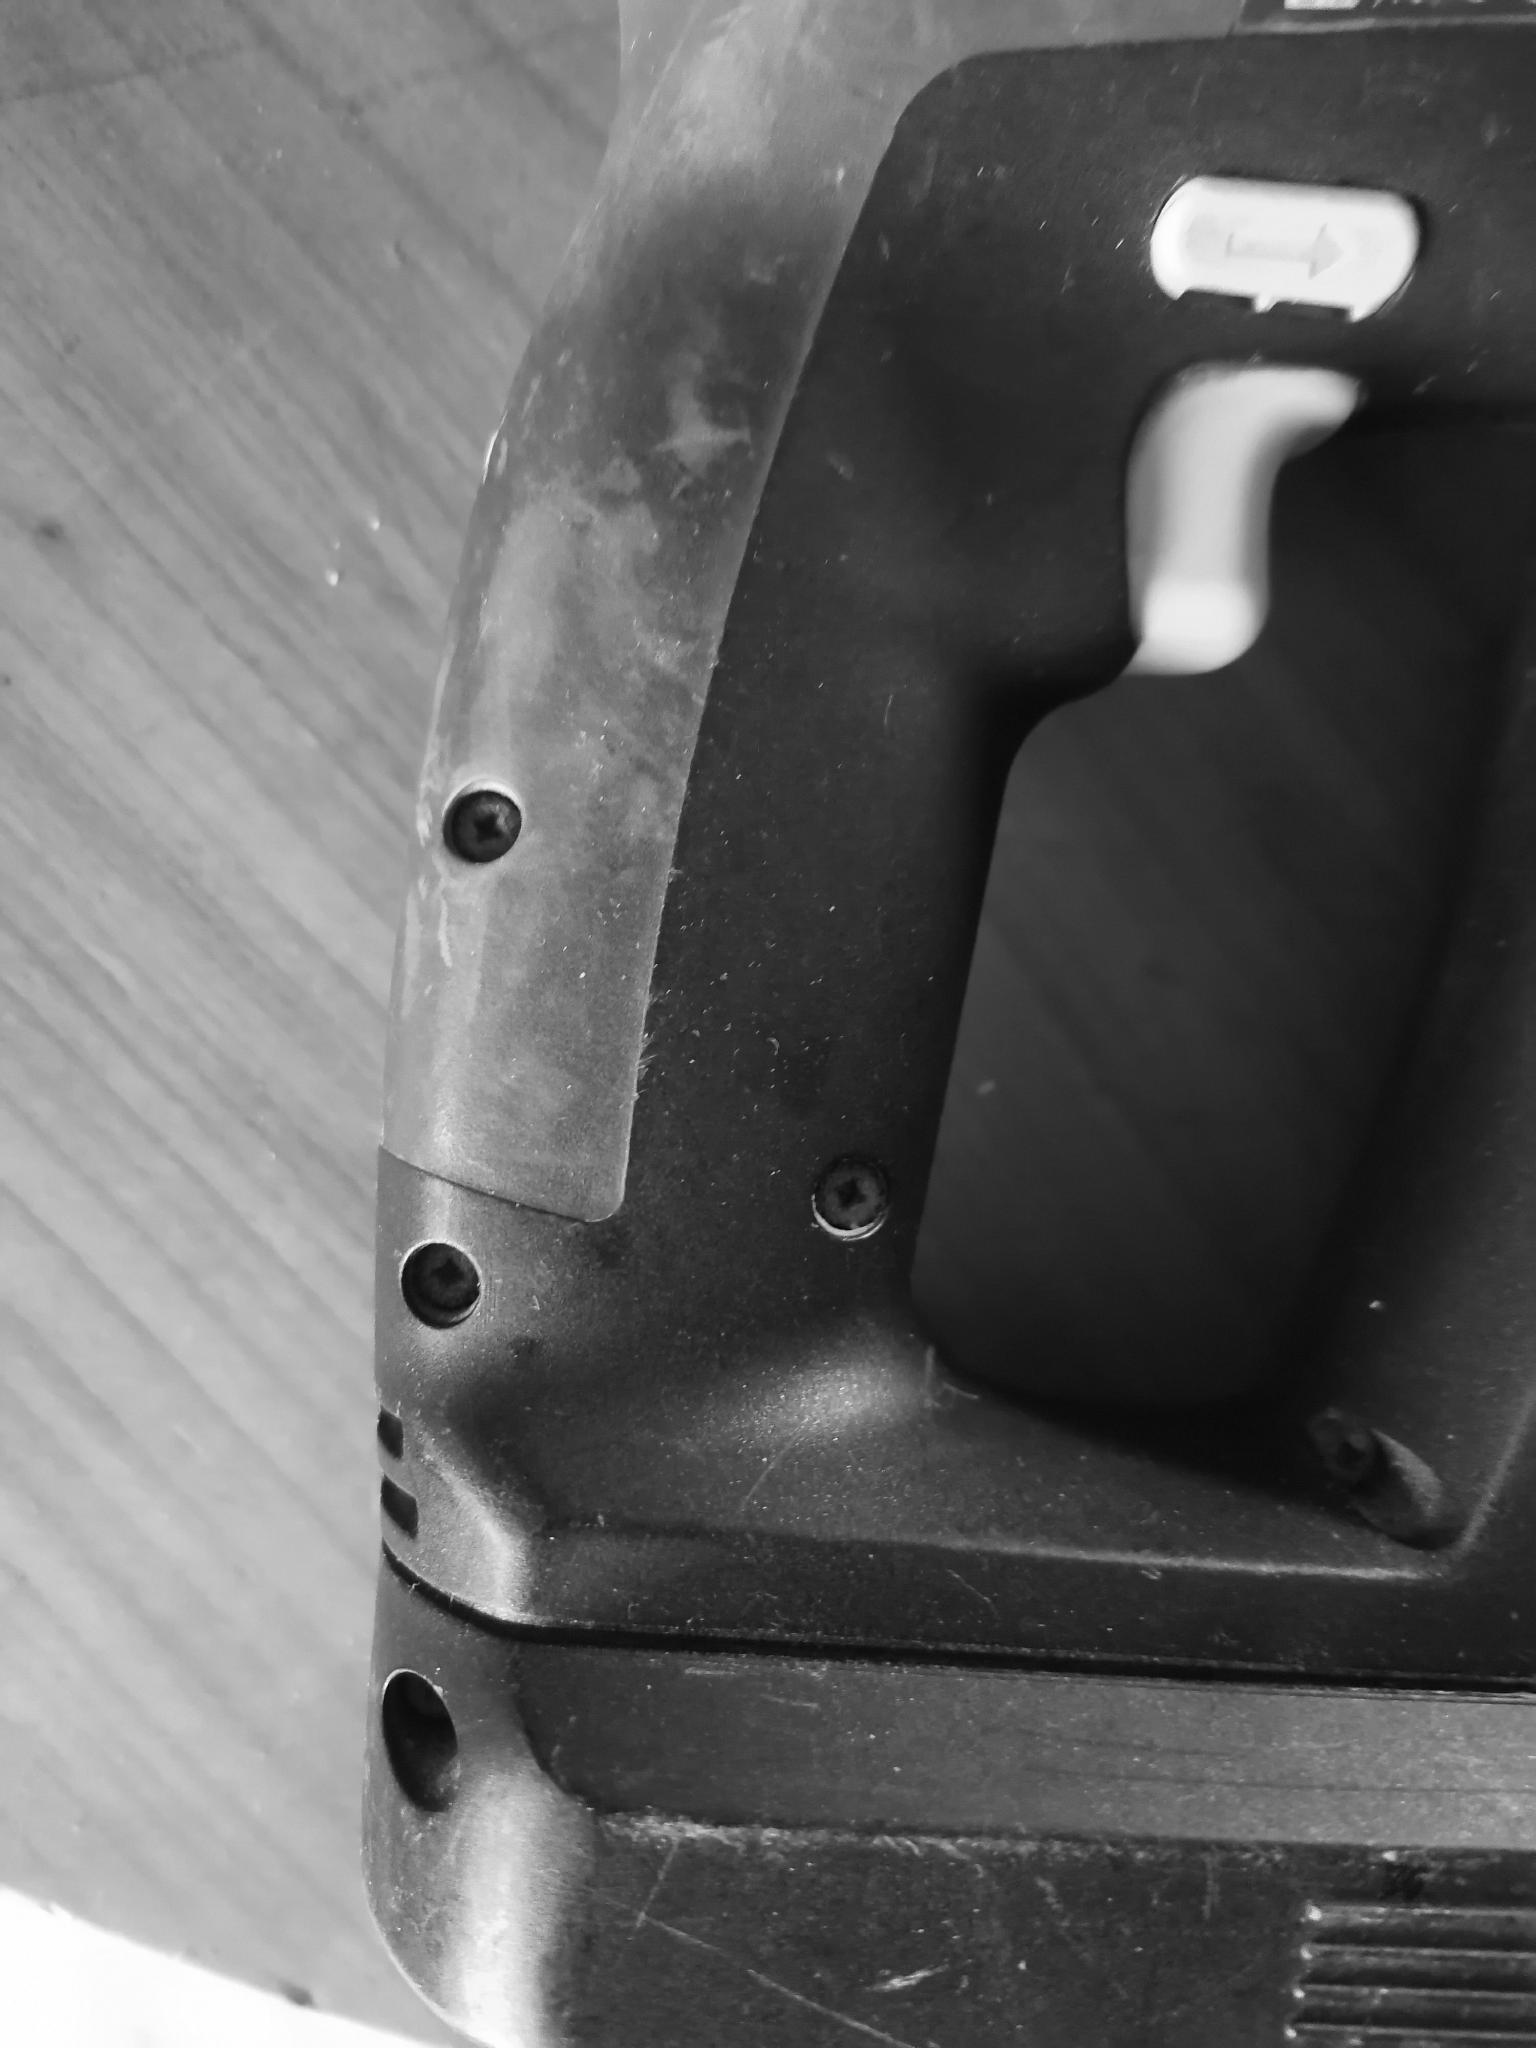philips-PZ: (394, 1235, 486, 1330), (437, 780, 528, 871), (810, 1151, 899, 1238)
